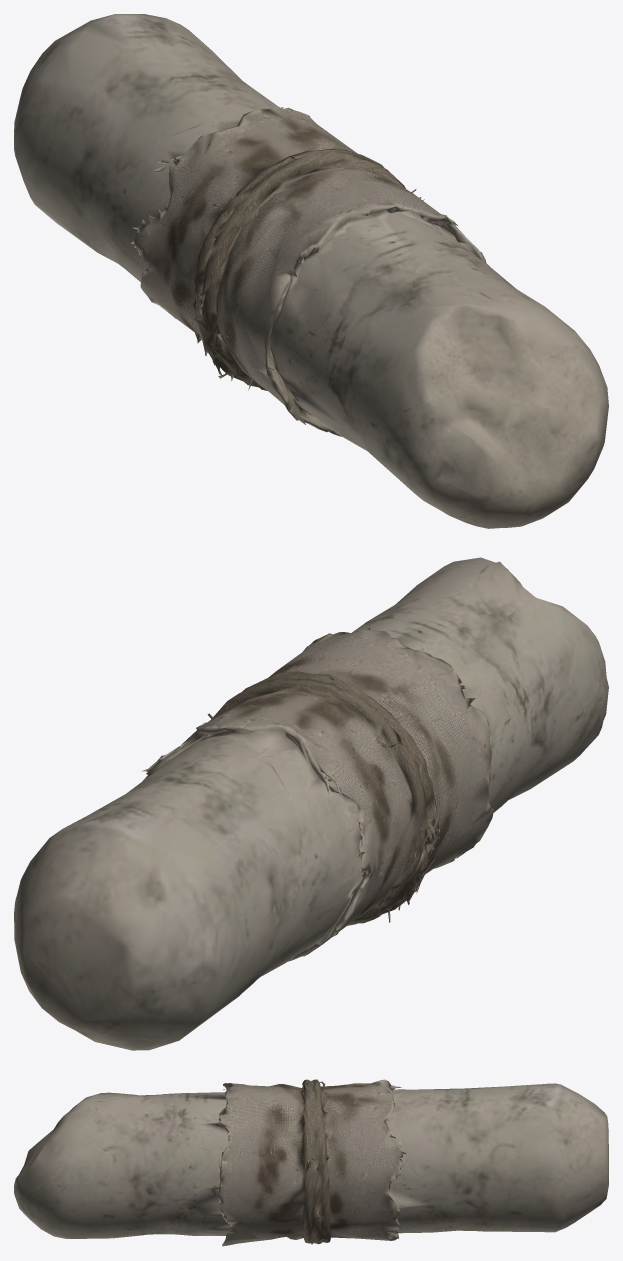
The model's file is chalk.0a8b2783.glb.
The picture shows the model from 3 angles, top to bottom: view 1: azimuth 30°, elevation 25°; view 2: azimuth 150°, elevation 25°; view 3: azimuth 270°, elevation 25°; orthographic projection. The views are drawn at different scales.
Parts seen in each view (by area): view 1: item; view 2: item; view 3: item.
Boxes of the visible parts, x1,y1,x2,y2 form: item: (14, 14, 608, 528); item: (14, 557, 608, 1050); item: (14, 1079, 608, 1246).
Bounding box in the file's own units: 0.024 × 0.0223 × 0.08.
1 material, 1 textured.
